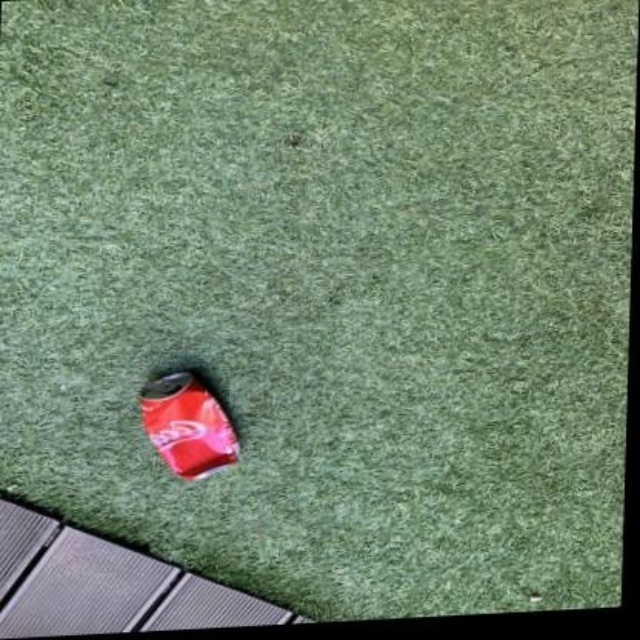trash: (140, 371, 237, 478)
